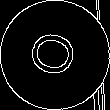O_E: (25, 27, 85, 83)
